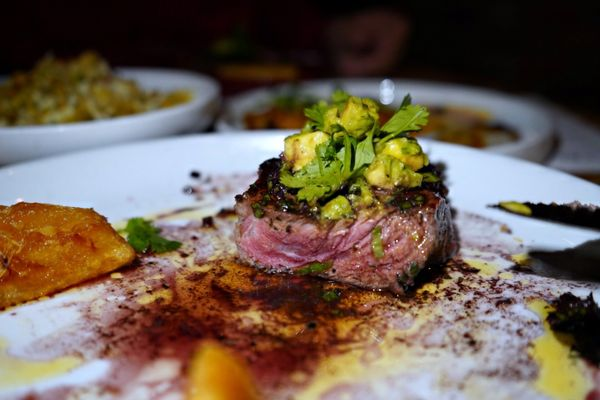sandwich: (491, 198, 600, 232)
sushi: (0, 50, 223, 167)
